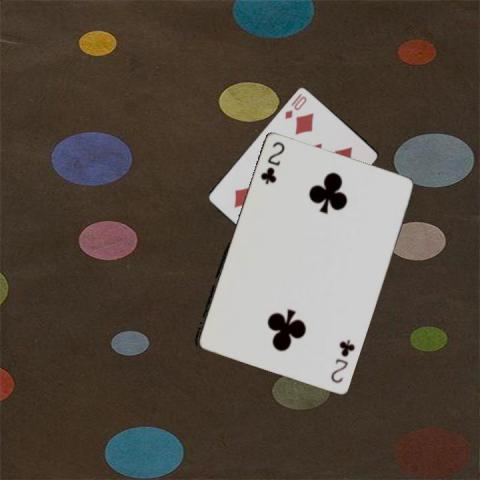10d: (282, 93, 308, 120)
2c: (328, 337, 357, 385), (258, 139, 286, 186)
